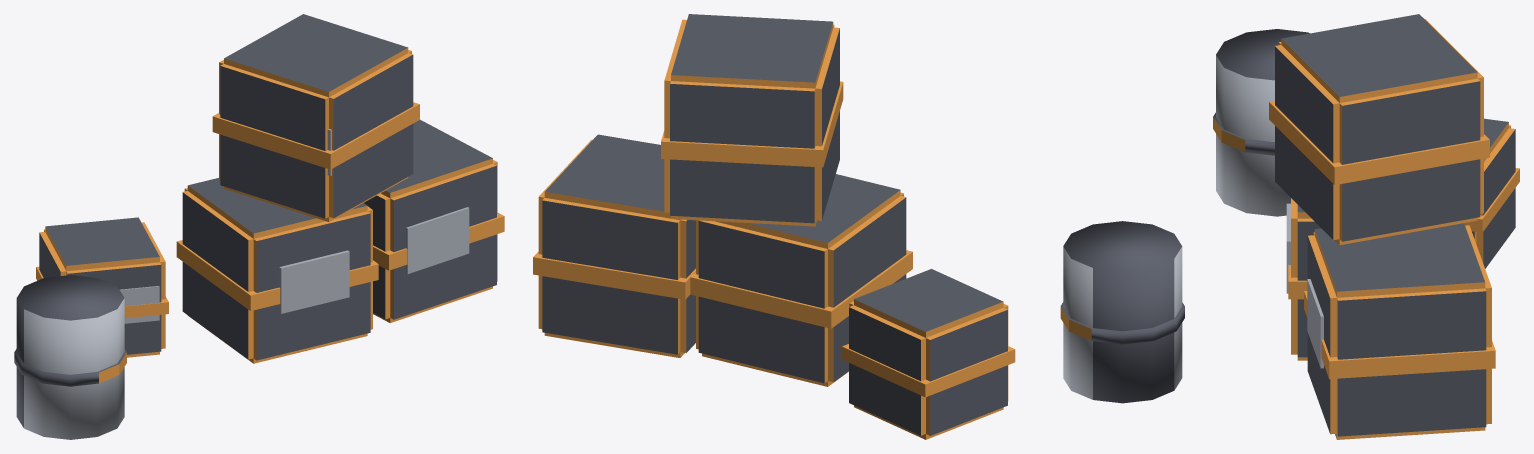
File: crate_stack.glb
3 views of the same model, side by side, from view 1: azimuth 30°, elevation 25°; view 2: azimuth 150°, elevation 25°; view 3: azimuth 270°, elevation 25° (orthographic). The views are drawn at different scales.
Parts seen in each view (by area): view 1: Crate_Stack; view 2: Crate_Stack; view 3: Crate_Stack.
Part boxes in pixels (box(x1,y1,x2,y2)): Crate_Stack: box(14, 14, 504, 439); Crate_Stack: box(533, 14, 1184, 439); Crate_Stack: box(1213, 14, 1519, 439).
Bounding box in the file's own units: 4.87 × 2.4 × 2.25.
